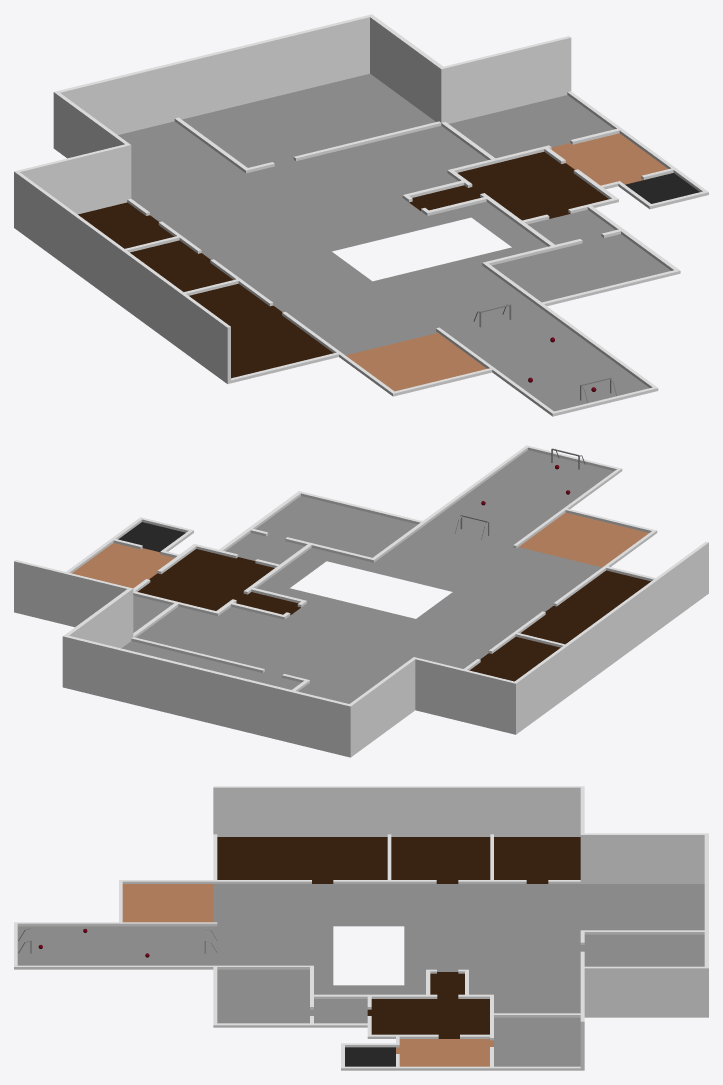
The model's file is Salle_013.FBX.
3 renders of one model, top to bottom at view 1: azimuth 30°, elevation 25°; view 2: azimuth 150°, elevation 25°; view 3: azimuth 270°, elevation 25°, orthographic. The views are drawn at different scales.
Visible parts, largest first — view 1: Piece_012; view 2: Piece_012; view 3: Piece_012.
Boxes of the visible parts, x1,y1,x2,y2 form: Piece_012: [14, 14, 708, 416]; Piece_012: [14, 445, 708, 757]; Piece_012: [14, 786, 708, 1070].
Bounding box in the file's own units: 3085 × 304 × 3847.
